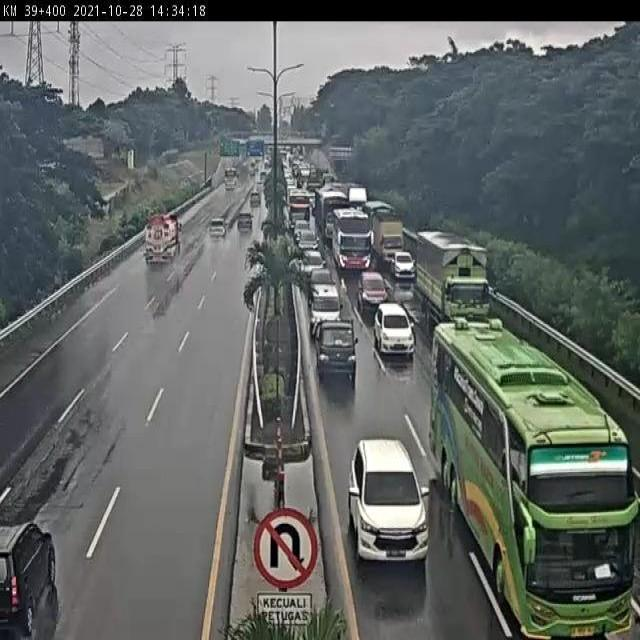big bus: (434, 316, 640, 640), (330, 205, 373, 275), (314, 190, 347, 242), (285, 191, 313, 232)
big truck: (413, 233, 492, 320), (364, 202, 404, 266)
car: (347, 438, 433, 566), (312, 310, 355, 378), (373, 302, 413, 358), (139, 221, 180, 271), (356, 267, 389, 317), (302, 260, 335, 296), (203, 218, 226, 250), (341, 250, 367, 278), (230, 213, 252, 246), (393, 249, 413, 280), (297, 238, 318, 266), (296, 224, 318, 248), (244, 194, 263, 218), (302, 250, 323, 270), (292, 220, 309, 240)
